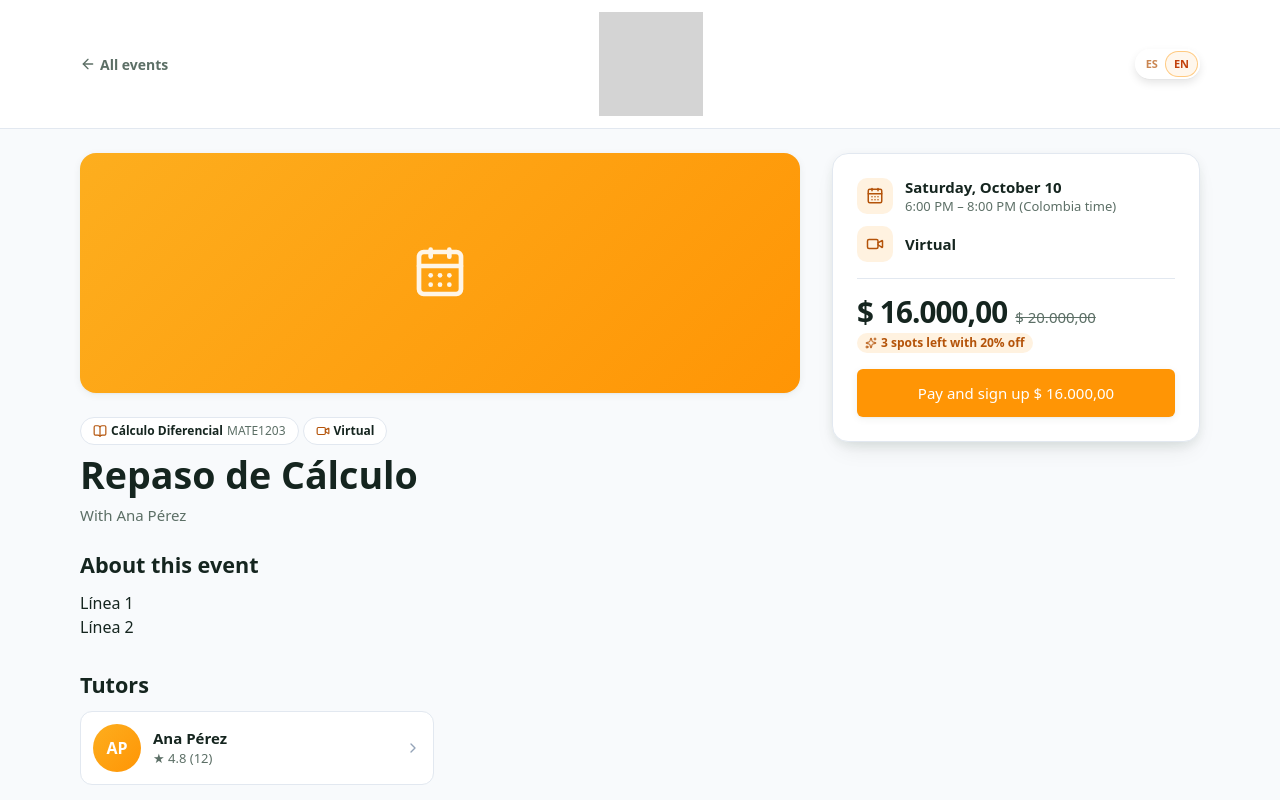
EventDetailView › paid registration › DECLINED → paymentDeclined
Click the button "Pay and sign up $ 16.000,00": coordinates (1016, 393) [857,369,1175,417]
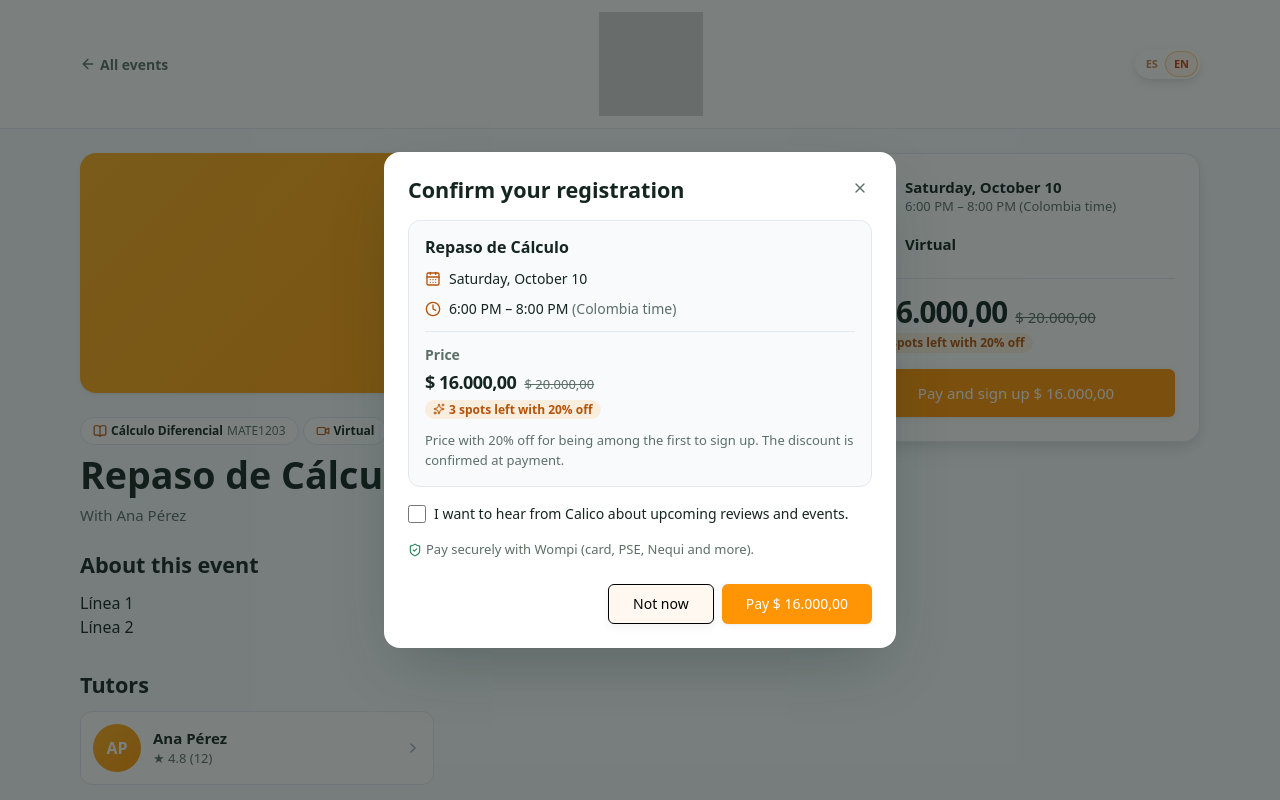
Click the button "Pay $ 16.000,00": coordinates (797, 604) [722,584,872,624]
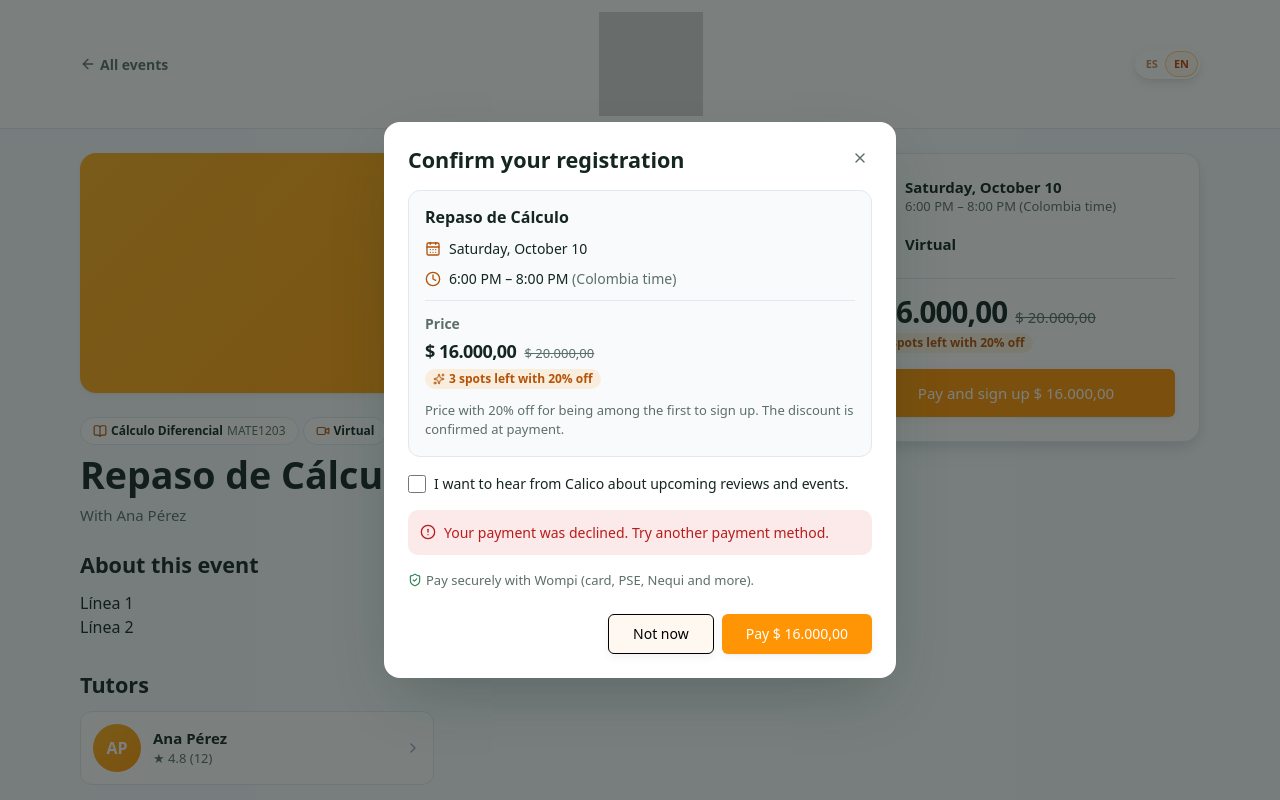
expect the text "Your payment was declined. Try another payment method." is shown: met, box [408,510,872,555]
